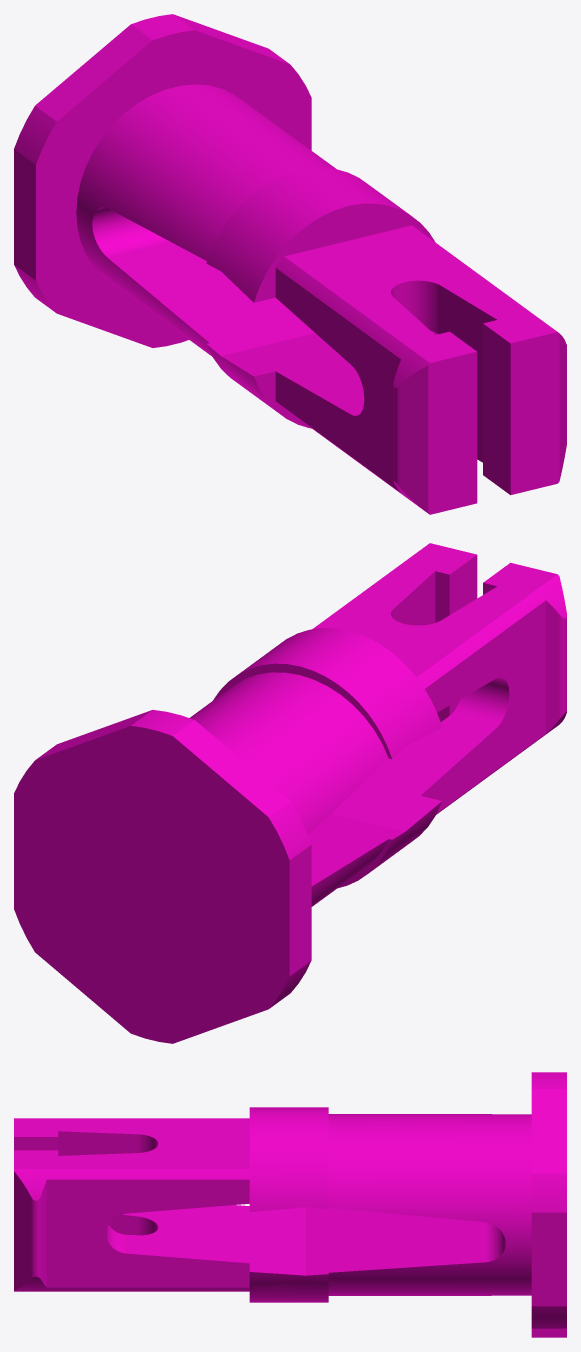
3 views of the same model, one above another, from view 1: azimuth 30°, elevation 25°; view 2: azimuth 150°, elevation 25°; view 3: azimuth 270°, elevation 25° (orthographic). The views are drawn at different scales.
Parts seen in each view (by area): view 1: main_e10098; view 2: main_e10098; view 3: main_e10098.
Part boxes in pixels (left/top/right/bottom): main_e10098: left=14, top=14, right=566, bottom=514; main_e10098: left=14, top=543, right=566, bottom=1043; main_e10098: left=14, top=1072, right=566, bottom=1337.
Bounding box in the file's own units: 5.8 × 6.24 × 12.46.
